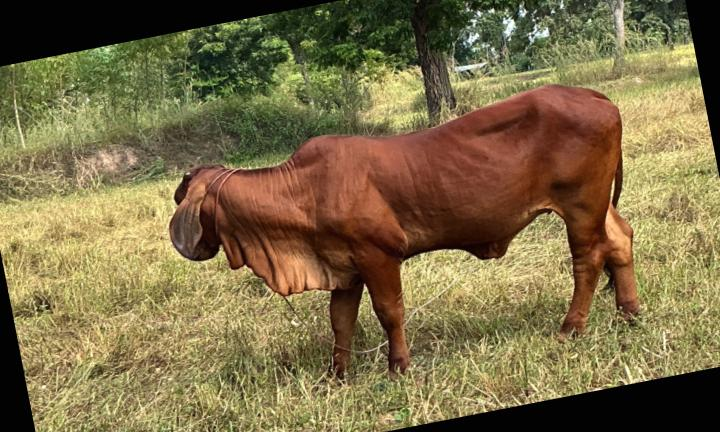Brahman: (169, 84, 638, 377)
